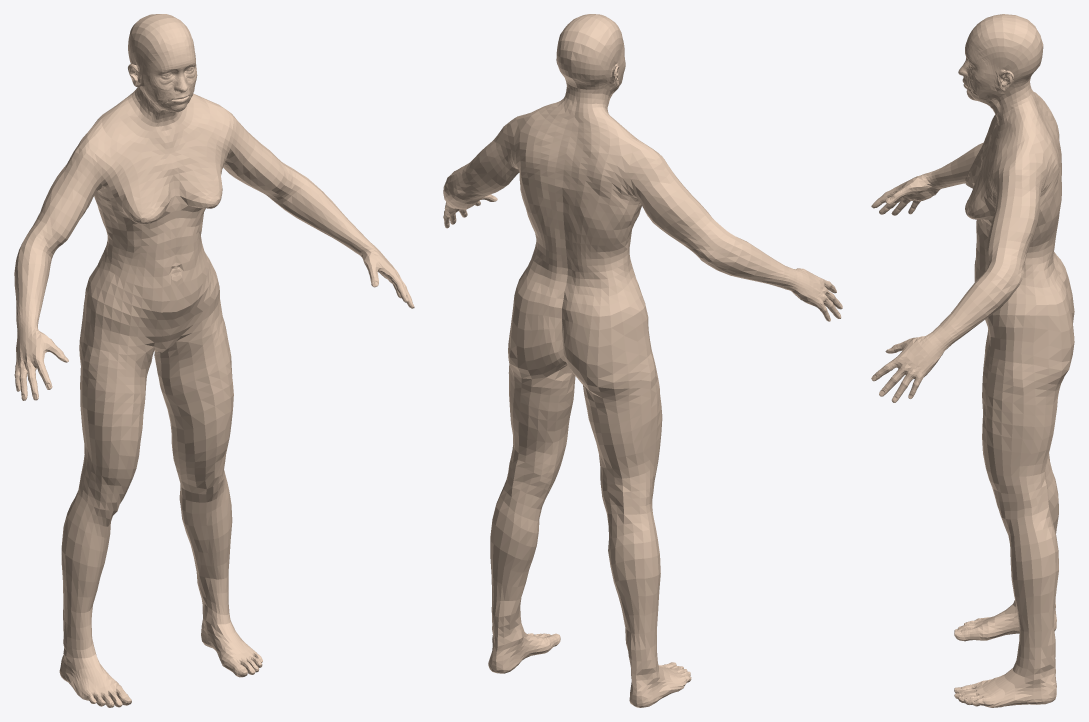
The model's file is female-elder-heavy-high.glb.
The picture shows the model from 3 angles, left to right: view 1: azimuth 30°, elevation 25°; view 2: azimuth 150°, elevation 25°; view 3: azimuth 270°, elevation 25°; orthographic projection.
Visible parts, largest first — view 1: world; view 2: world; view 3: world.
Boxes of the visible parts, x1,y1,x2,y2 form: world: (14, 14, 414, 707); world: (443, 14, 842, 707); world: (871, 14, 1074, 707).
Bounding box in the file's own units: 1.16 × 1.86 × 0.5258.
